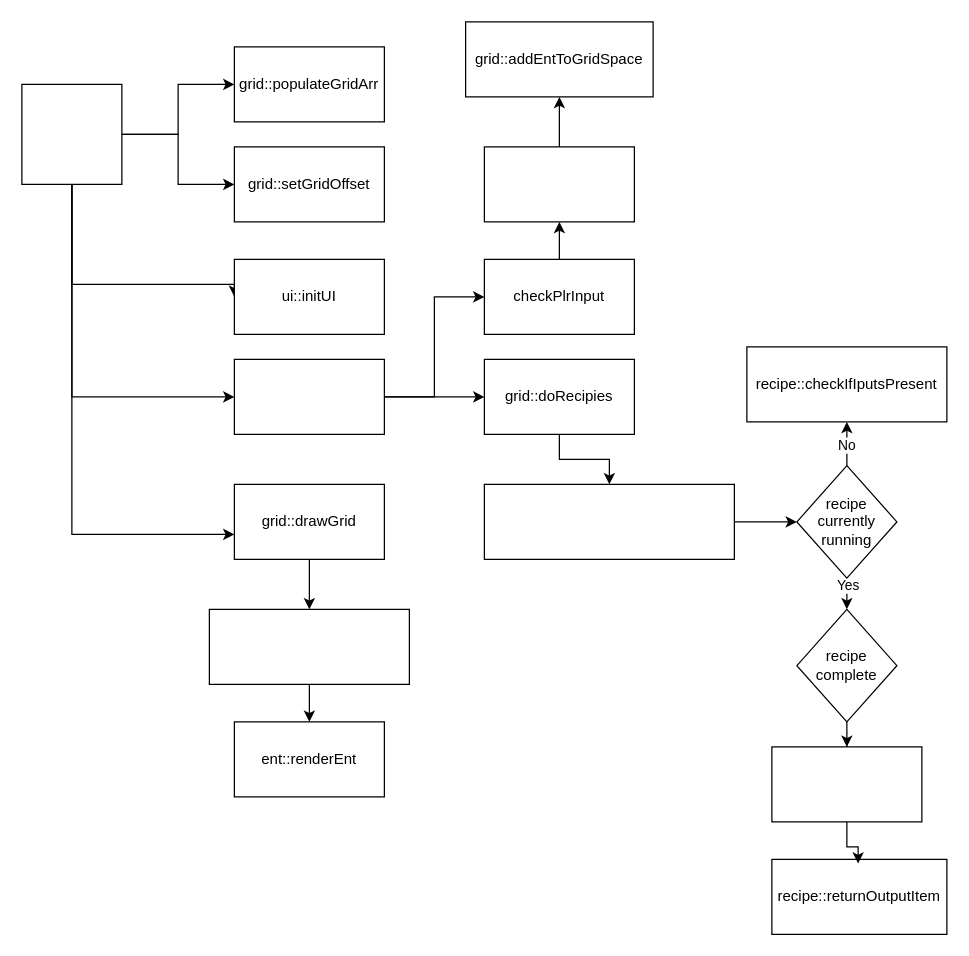
Image size: 969x956. Some labels were removed from this diagram. The centre of each missing label's shape, as x and y in pixels:
gameLoop: (x=308, y=396)
gridEnt::addItem: (x=846, y=784)
gridEnt::advanceCurrentRecipe: (x=608, y=521)
gridSpace::drawGridSpace: (x=308, y=646)
main: (x=71, y=133)
placeBuildingDown: (x=558, y=184)
